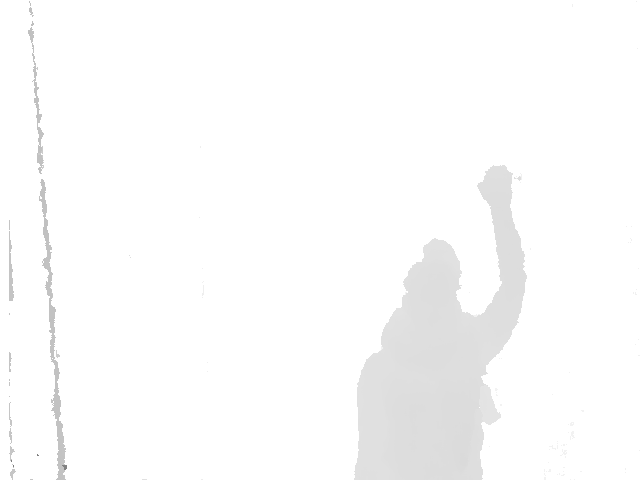hand: (475, 166, 516, 208)
head: (399, 237, 463, 329)
person: (352, 163, 529, 480)
